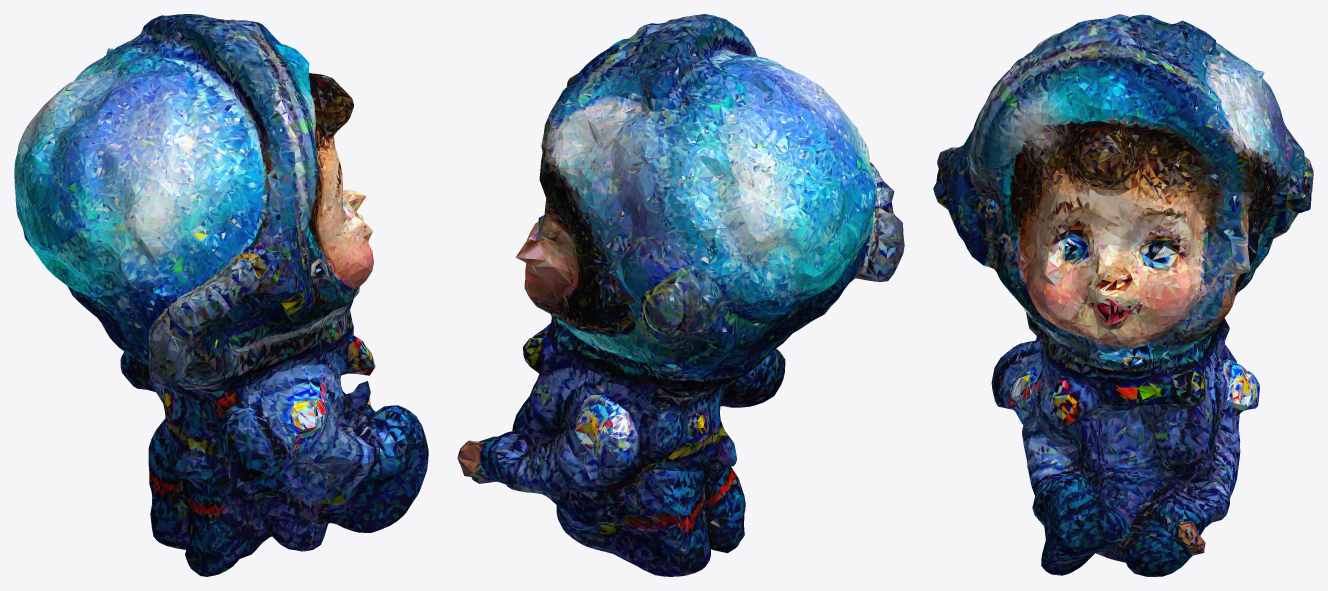
Rendered from baby_astronaut-canny.glb.
3 renders of one model, left to right at view 1: azimuth 30°, elevation 25°; view 2: azimuth 150°, elevation 25°; view 3: azimuth 270°, elevation 25°, orthographic. The views are drawn at different scales.
Parts seen in each view (by area): view 1: extracted_mesh; view 2: extracted_mesh; view 3: extracted_mesh.
Boxes of the visible parts, box(x1,y1,x2,y2) form: extracted_mesh: box(14, 14, 428, 576); extracted_mesh: box(457, 14, 904, 576); extracted_mesh: box(933, 14, 1313, 576).
Bounding box in the file's own units: 0.8201 × 1.14 × 0.7548.
1 material, 1 textured.
